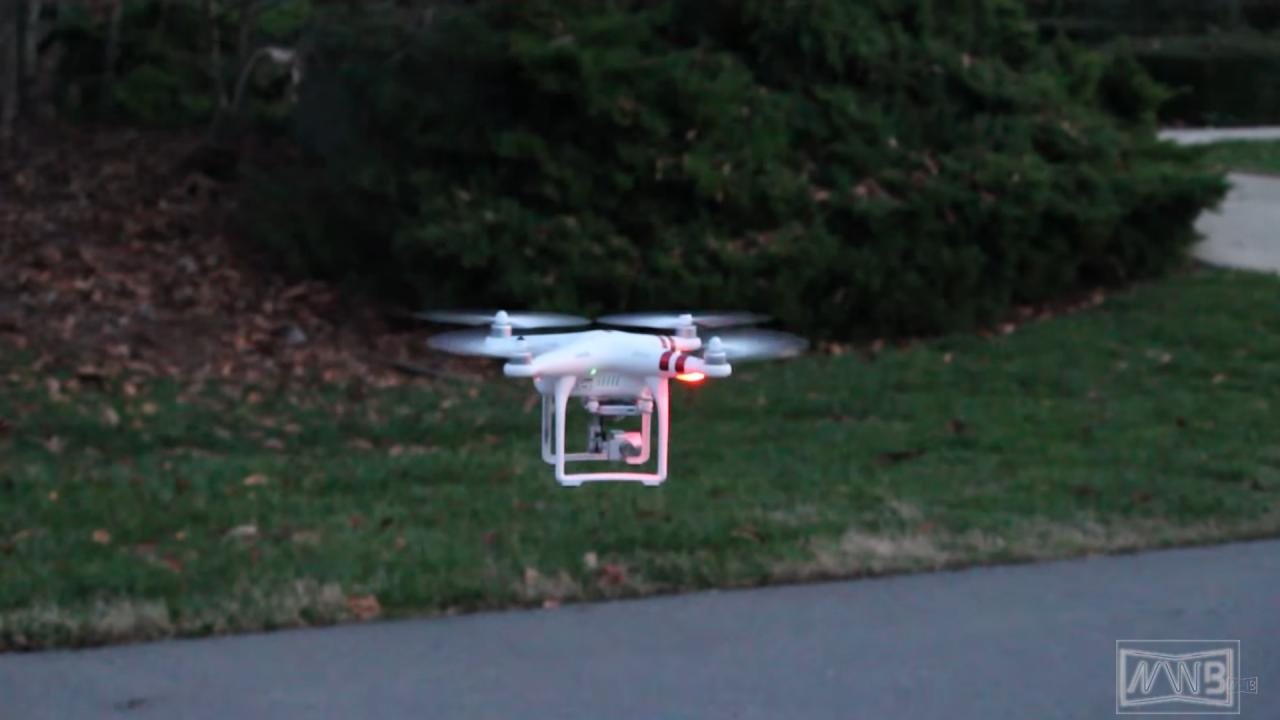Drone: (404, 294, 820, 499)
